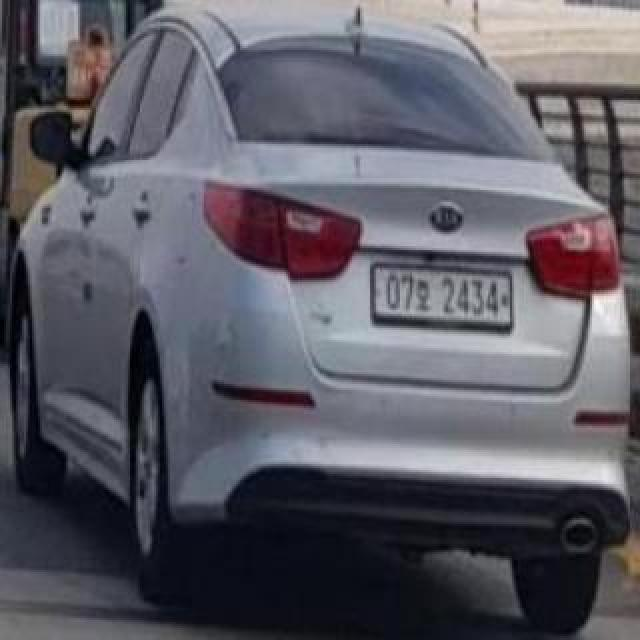car: (0, 2, 633, 640)
illegal_plate: (373, 257, 515, 339)
